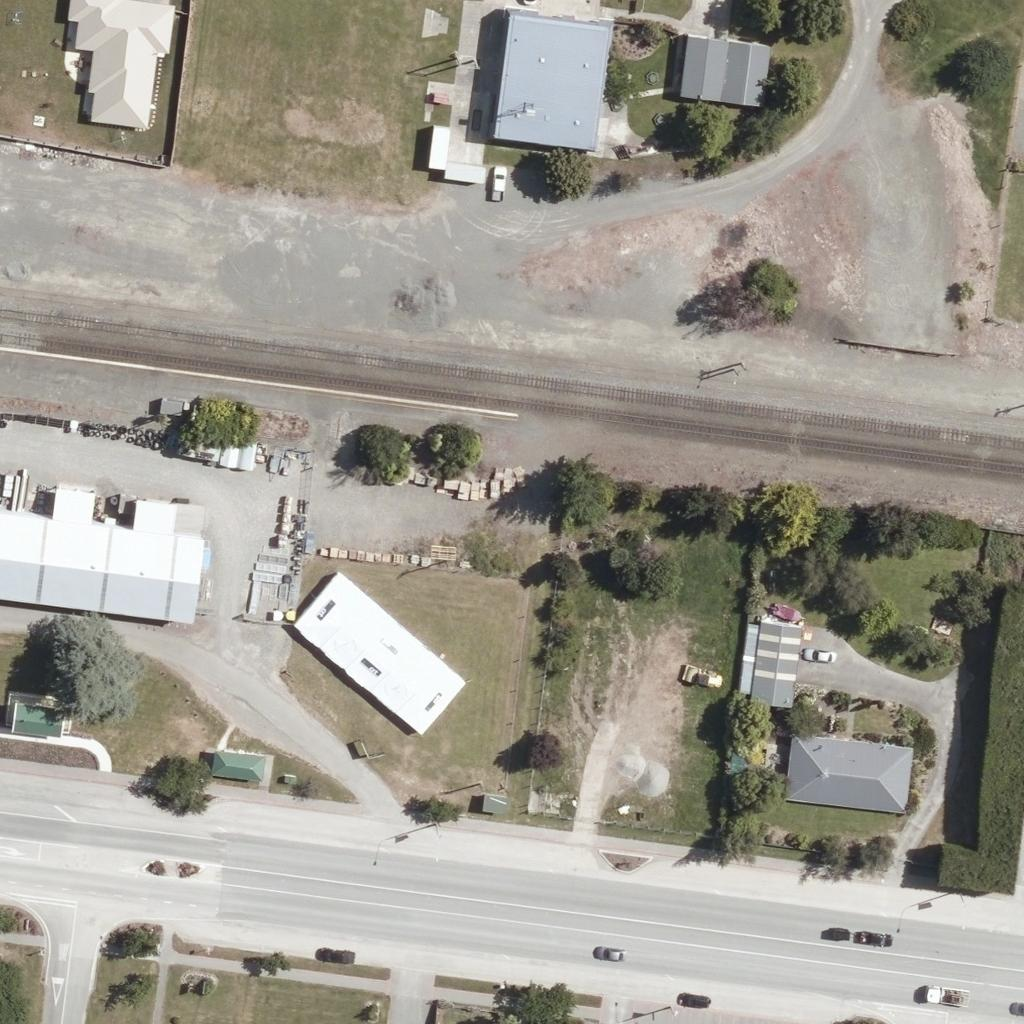car: (481, 163, 515, 197), (804, 639, 838, 673), (858, 921, 892, 955), (595, 937, 629, 971), (318, 939, 352, 973), (677, 983, 711, 1017)
